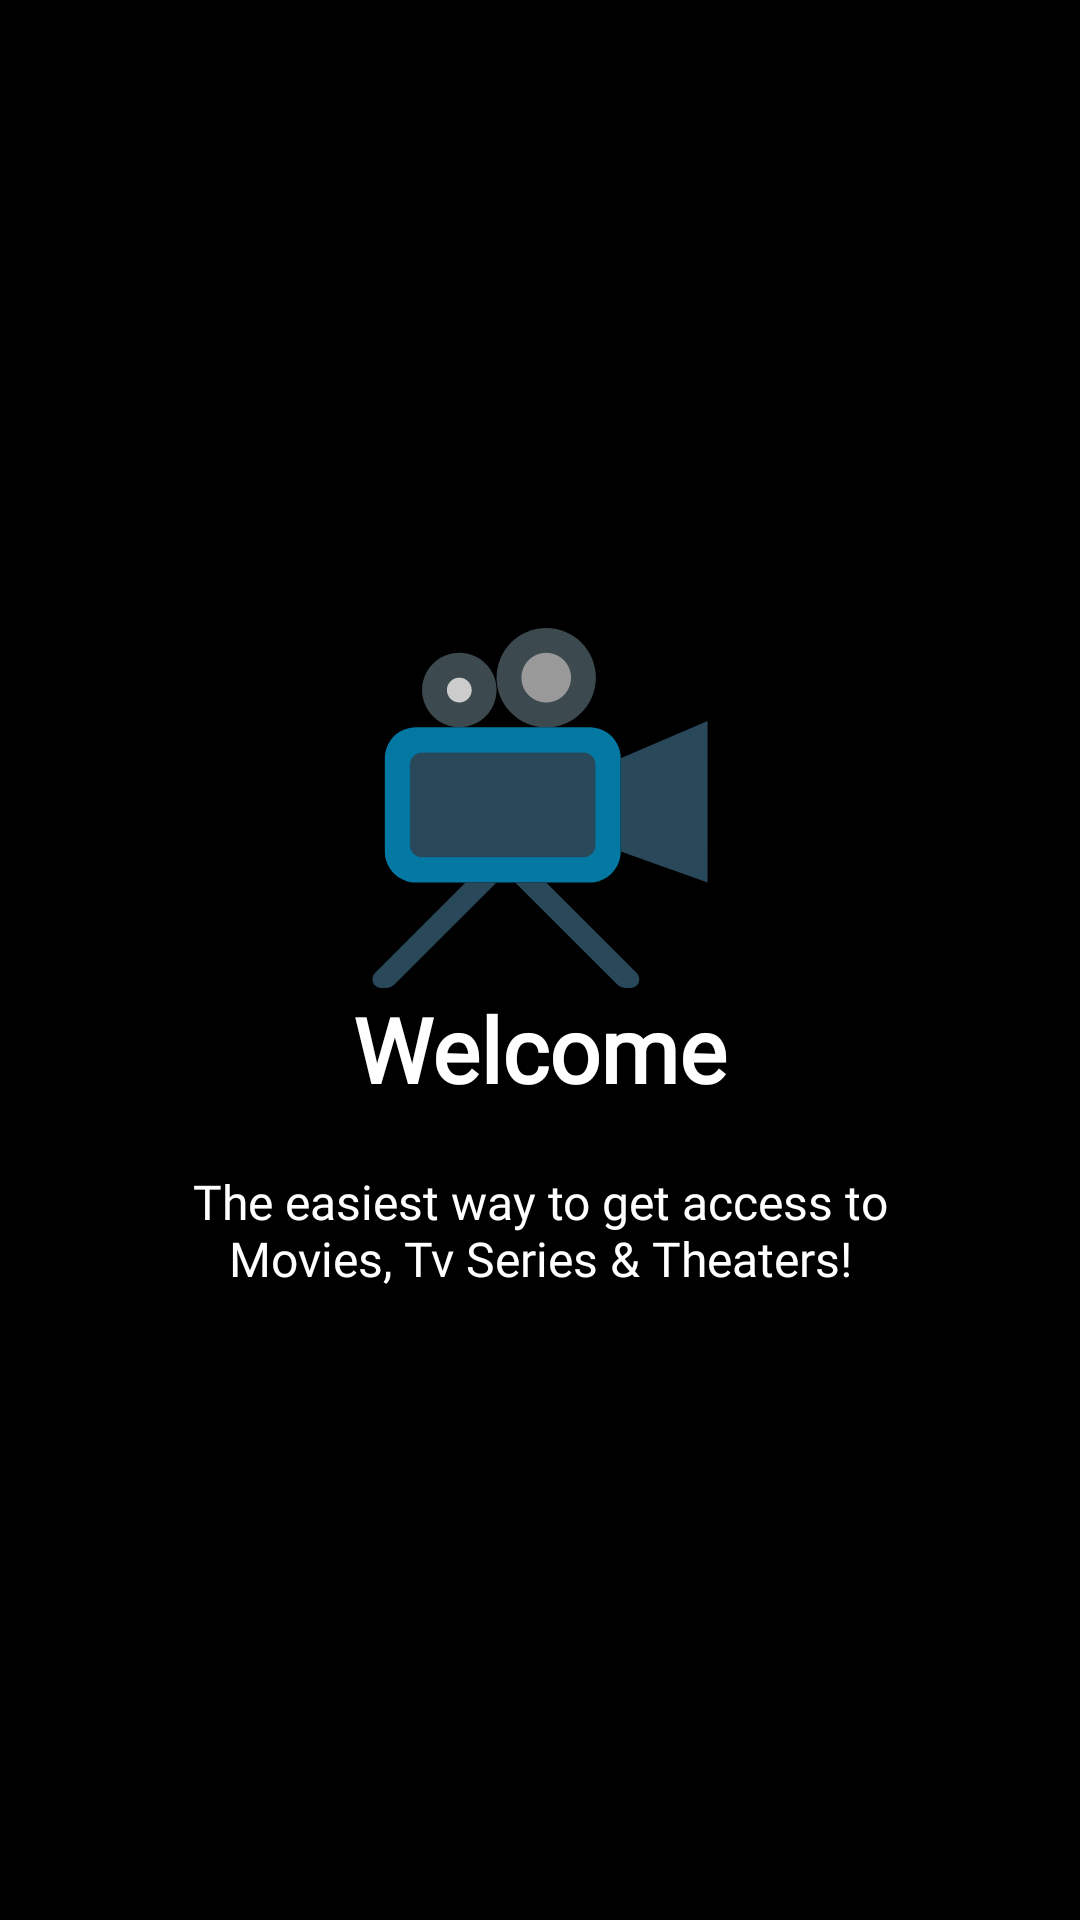

Named icons in this screenshot (1080w x 1920h) and their bounding boxes, {"x1": x1, "y1": y1, "x2": x2, "y2": y2}:
camera film: {"x1": 372, "y1": 628, "x2": 708, "y2": 988}
